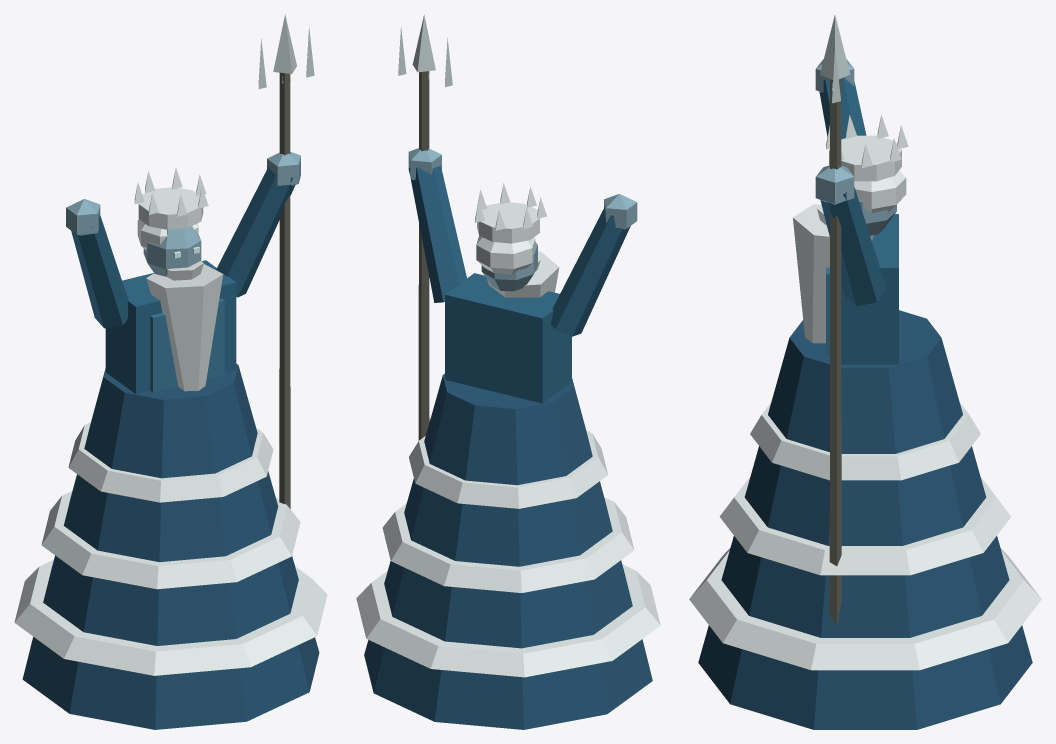
File: blanker_hans.glb
3 renders of one model, left to right at view 1: azimuth 30°, elevation 25°; view 2: azimuth 150°, elevation 25°; view 3: azimuth 270°, elevation 25°, orthographic. The views are drawn at different scales.
Bounding box in the file's own units: 1.6 × 3.7 × 1.68.
1 material, 1 textured.
